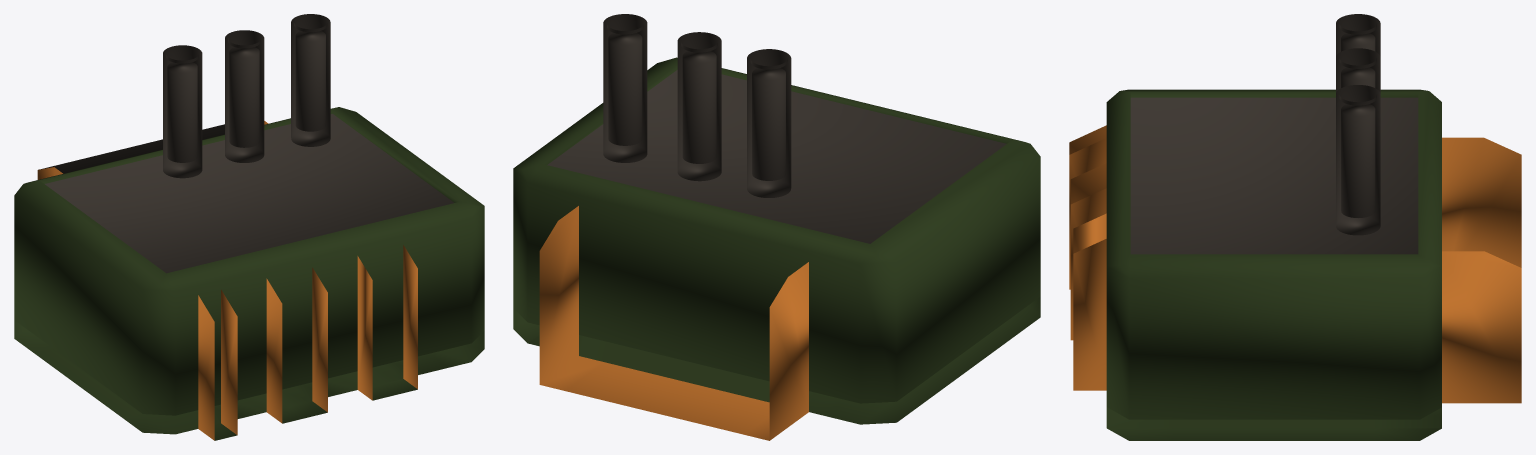
The model's file is hub_green_lvl3.glb.
3 renders of one model, left to right at view 1: azimuth 30°, elevation 25°; view 2: azimuth 150°, elevation 25°; view 3: azimuth 270°, elevation 25°, orthographic. The views are drawn at different scales.
Parts seen in each view (by area): view 1: Cube, Cylinder.004, Cylinder.001, Cylinder.003; view 2: Cube, Cylinder.003, Cylinder.001, Cylinder.004; view 3: Cube, Cylinder.001, Cylinder.003, Cylinder.004.
Part boxes in pixels (box(x1,y1,x2,y2)): Cube: box(14, 107, 484, 440); Cylinder.004: box(163, 45, 202, 178); Cylinder.001: box(291, 14, 330, 146); Cylinder.003: box(225, 30, 264, 162); Cube: box(513, 57, 1040, 440); Cylinder.003: box(677, 32, 721, 181); Cylinder.001: box(603, 14, 647, 162); Cylinder.004: box(747, 49, 791, 197); Cube: box(1069, 89, 1521, 440); Cylinder.001: box(1336, 85, 1380, 235); Cylinder.003: box(1336, 48, 1380, 93); Cylinder.004: box(1336, 14, 1380, 56).
Size of the model in its own units: 8 by 6.05 by 8.09.
